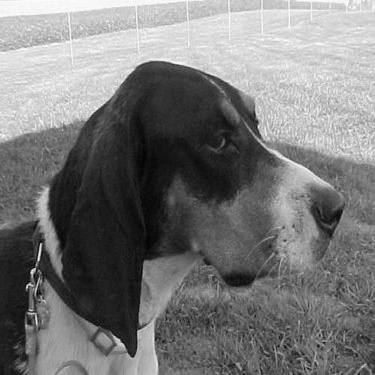dog: (6, 52, 350, 372)
